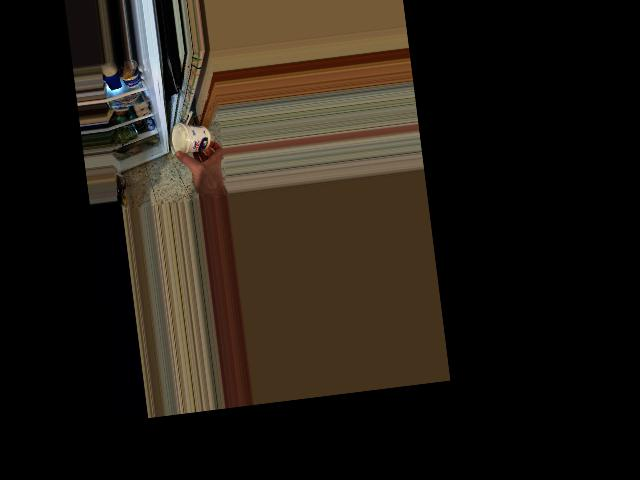cotage: (168, 120, 210, 156)
